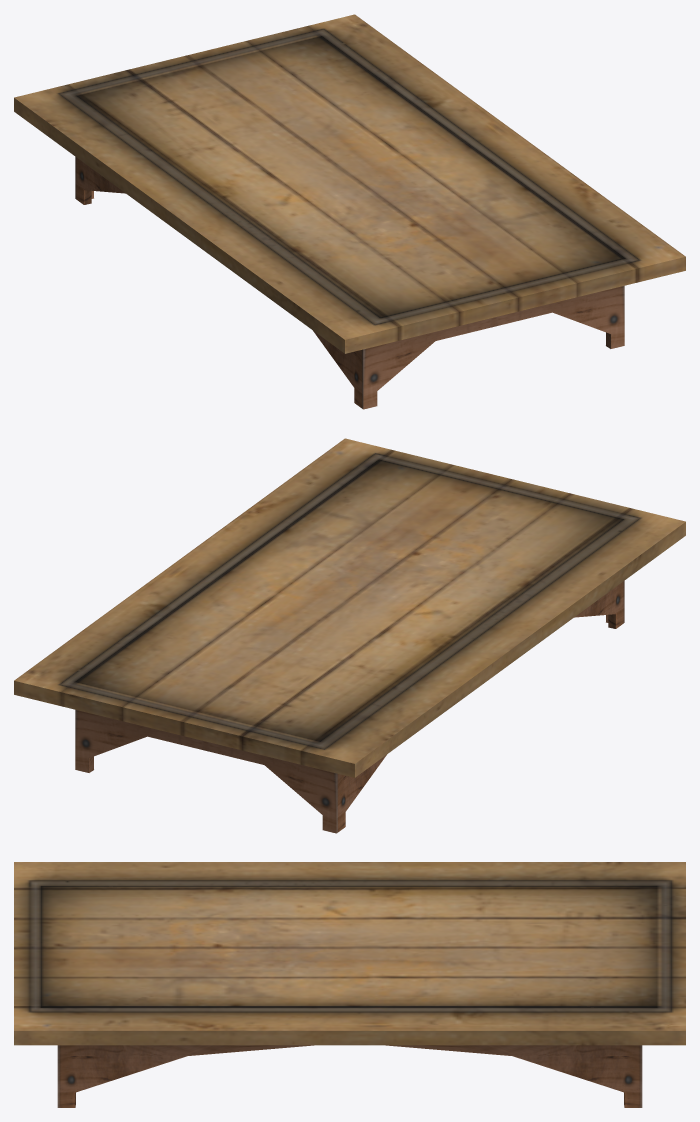
Rendered from LargeTable.FBX.
3 views of the same model, one above another, from view 1: azimuth 30°, elevation 25°; view 2: azimuth 150°, elevation 25°; view 3: azimuth 270°, elevation 25° (orthographic).
Visible parts, largest first — view 1: table; view 2: table; view 3: table.
Boxes of the visible parts, x1,y1,x2,y2 form: table: (14, 14, 685, 409); table: (14, 438, 685, 833); table: (14, 862, 685, 1107).
Size of the model in its own units: 51.71 by 13.78 by 86.96.
